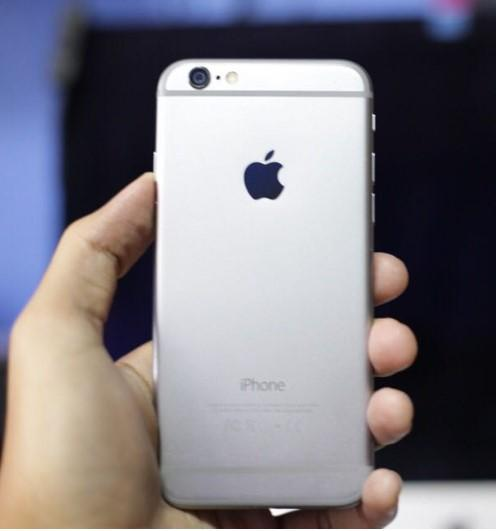Smart Phone: (151, 59, 376, 511)
